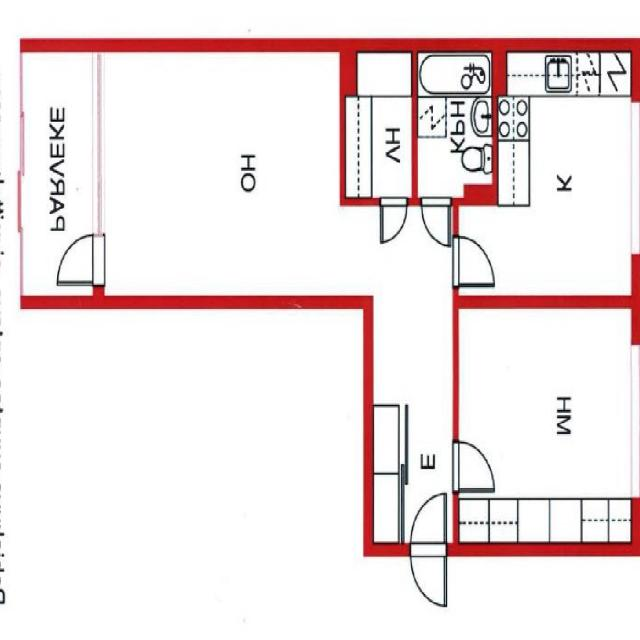door: (57, 234, 105, 285), (411, 492, 447, 556), (411, 543, 447, 606), (453, 236, 495, 287), (452, 441, 494, 491), (422, 197, 451, 246), (380, 197, 408, 244)
